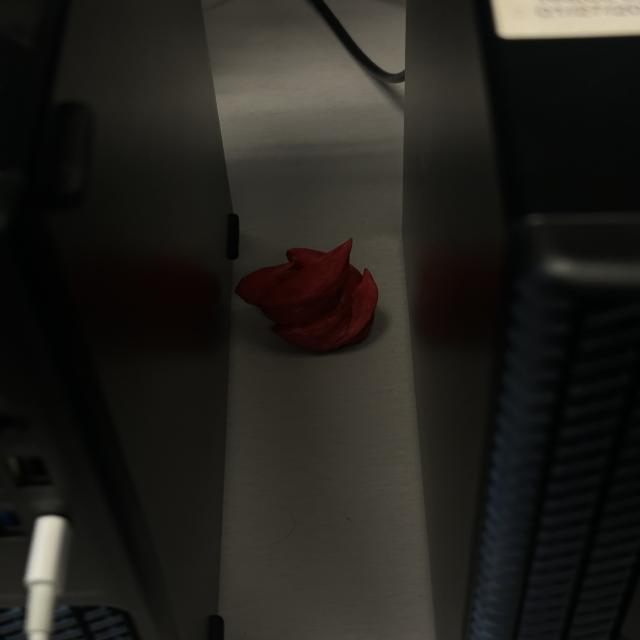fire: (232, 234, 383, 354)
